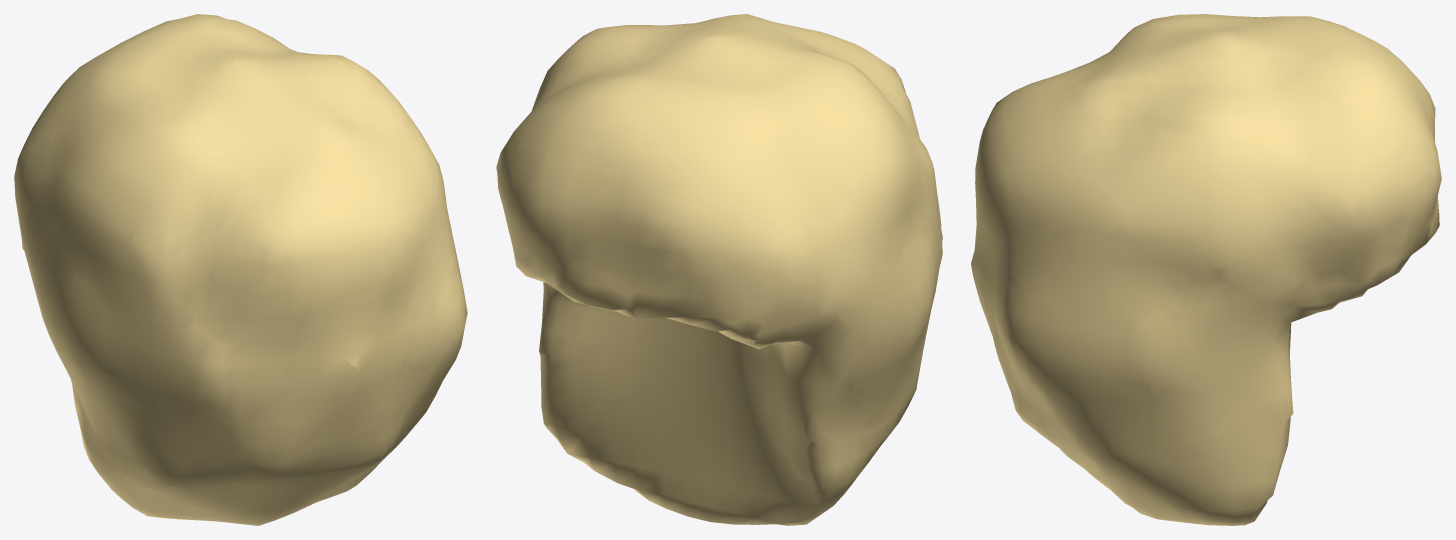
File: hair1.obj
The picture shows the model from 3 angles, left to right: view 1: azimuth 30°, elevation 25°; view 2: azimuth 150°, elevation 25°; view 3: azimuth 270°, elevation 25°; orthographic projection. The views are drawn at different scales.
Parts seen in each view (by area): view 1: hair2_Icosphere; view 2: hair2_Icosphere; view 3: hair2_Icosphere.
Boxes of the visible parts, <box> form: hair2_Icosphere: <box>14,14,467,525</box>; hair2_Icosphere: <box>496,14,942,525</box>; hair2_Icosphere: <box>971,14,1441,525</box>.
Bounding box in the file's own units: 2.7 × 3.34 × 3.06.
